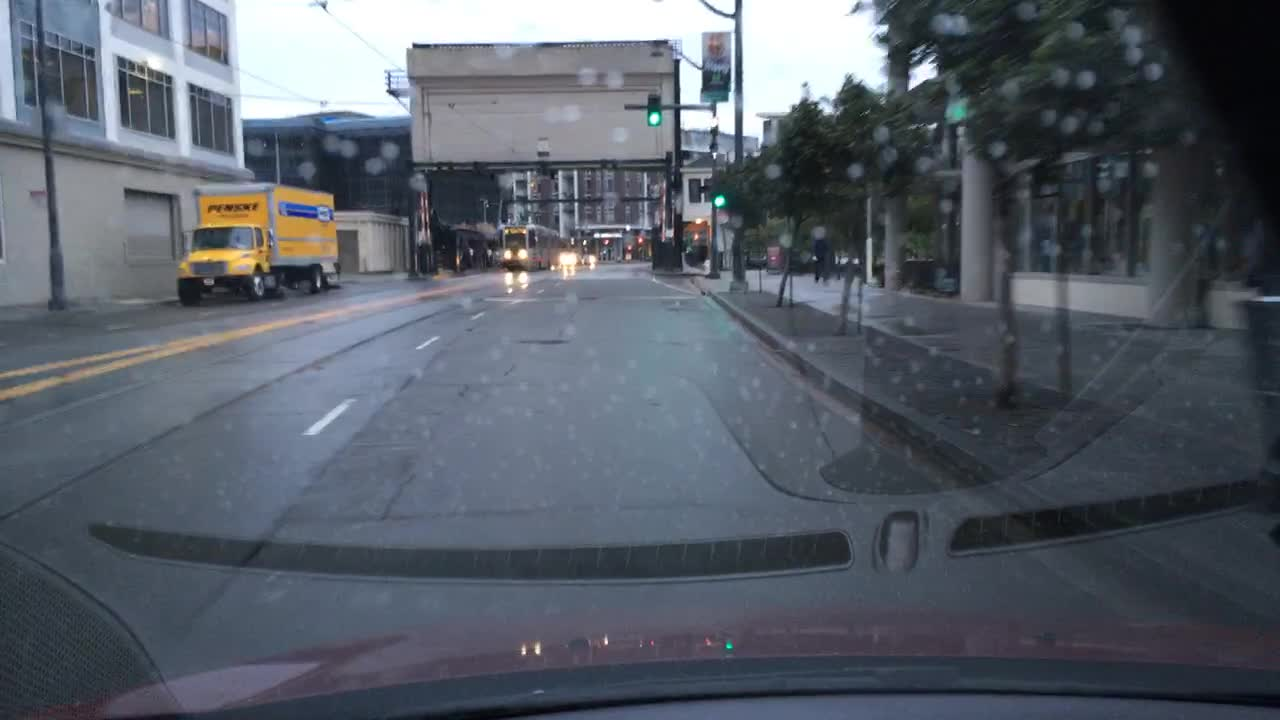bus: (496, 224, 560, 274)
car: (430, 224, 492, 276), (557, 249, 577, 265)
person: (809, 238, 826, 282)
traffic light: (709, 174, 727, 207), (646, 94, 660, 125)
traffic sign: (696, 90, 727, 102)
truck: (175, 182, 343, 308)
